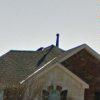Chimney: (54, 26, 63, 51)
